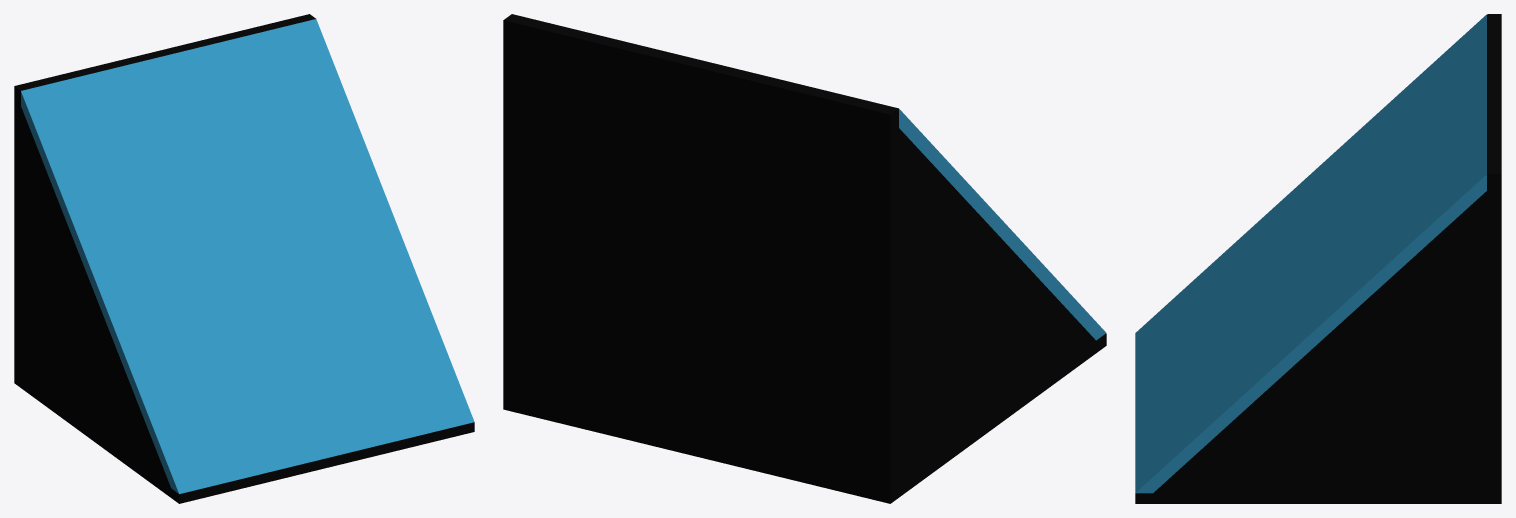
The model's file is Mirror.fbx.
3 views of the same model, side by side, from view 1: azimuth 30°, elevation 25°; view 2: azimuth 150°, elevation 25°; view 3: azimuth 270°, elevation 25° (orthographic). The views are drawn at different scales.
Parts seen in each view (by area): view 1: Mirror Surface, Mirror Body; view 2: Mirror Body, Mirror Surface; view 3: Mirror Surface, Mirror Body.
Boxes of the visible parts, bbox=[...] form: Mirror Surface: bbox=[21, 19, 474, 494]; Mirror Body: bbox=[14, 14, 474, 503]; Mirror Body: bbox=[503, 14, 1106, 503]; Mirror Surface: bbox=[899, 109, 1105, 340]; Mirror Surface: bbox=[1135, 14, 1486, 493]; Mirror Body: bbox=[1135, 14, 1501, 503].
Bounding box in the file's own units: 100 × 96.12 × 96.72.
